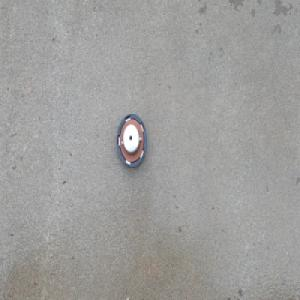FuelCap: (116, 112, 147, 169)
